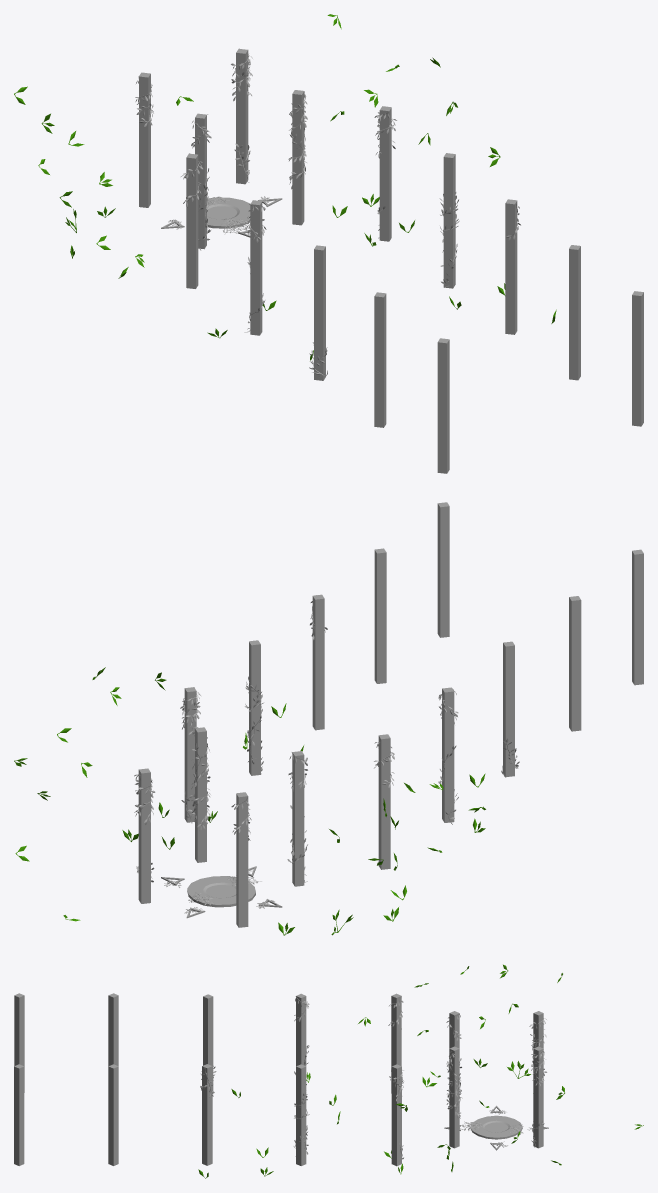
File: asset_level_cave_treasure_details.fbx
3 views of the same model, one above another, from view 1: azimuth 30°, elevation 25°; view 2: azimuth 150°, elevation 25°; view 3: azimuth 270°, elevation 25° (orthographic). The views are drawn at different scales.
Visible parts, largest first — view 1: asset_detail_treasure_pillars_altar, asset_detail_plants_alt; view 2: asset_detail_treasure_pillars_altar, asset_detail_plants_alt; view 3: asset_detail_treasure_pillars_altar, asset_detail_plants_alt.
Boxes of the visible parts, bbox=[...] form: asset_detail_treasure_pillars_altar: bbox=[135, 48, 643, 473]; asset_detail_plants_alt: bbox=[14, 14, 556, 360]; asset_detail_treasure_pillars_altar: bbox=[134, 502, 643, 927]; asset_detail_plants_alt: bbox=[14, 667, 485, 935]; asset_detail_treasure_pillars_altar: bbox=[14, 993, 548, 1166]; asset_detail_plants_alt: bbox=[198, 964, 643, 1178].
Bounding box in the file's own units: 1316 × 548 × 2759.
